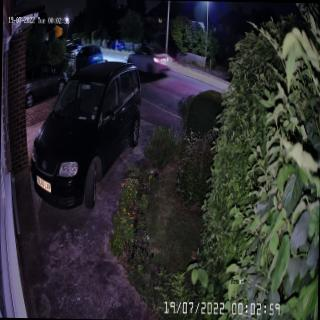car: (28, 56, 144, 214), (24, 61, 68, 109), (126, 45, 170, 80), (74, 44, 104, 74), (110, 36, 124, 52)
